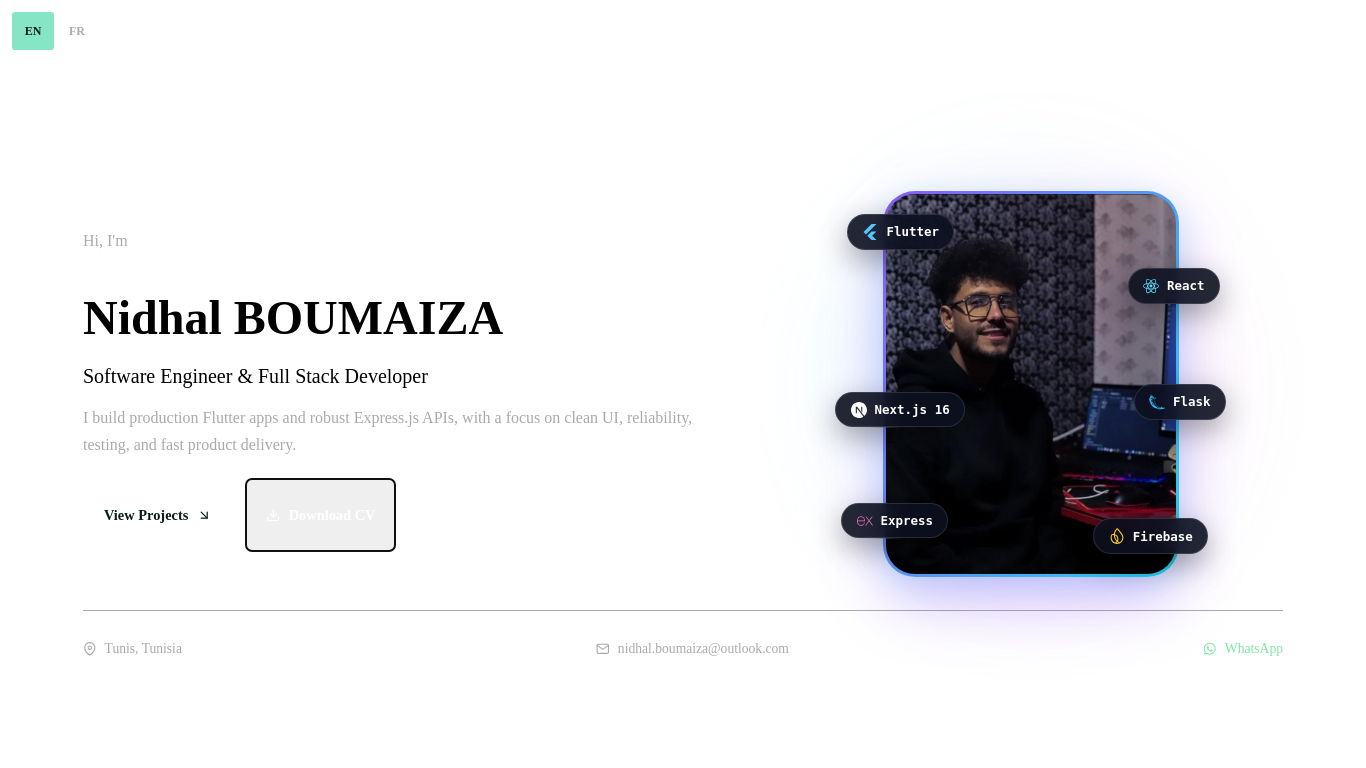
Scenario: CV offers only Canadian and Classic formats in English and French
Click the button "Download CV": x=320, y=515 [244,478,396,552]
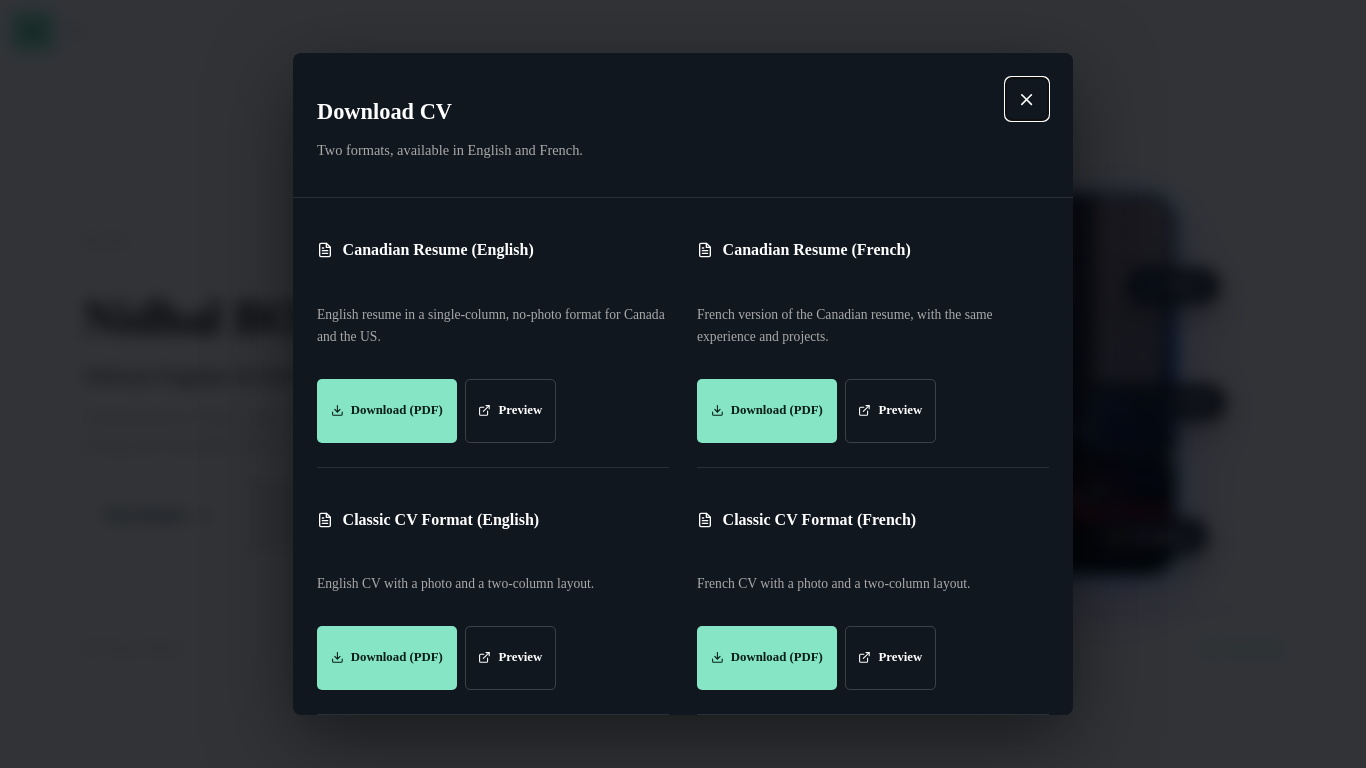
Check: the number of links "Download (PDF)" is 4, box [317,379,457,443]; [697,379,837,443]; [317,626,457,690]; [697,626,837,690]
Check: the number of links "Preview" is 4, box [465,379,556,443]; [845,379,936,443]; [465,626,556,690]; [845,626,936,690]
